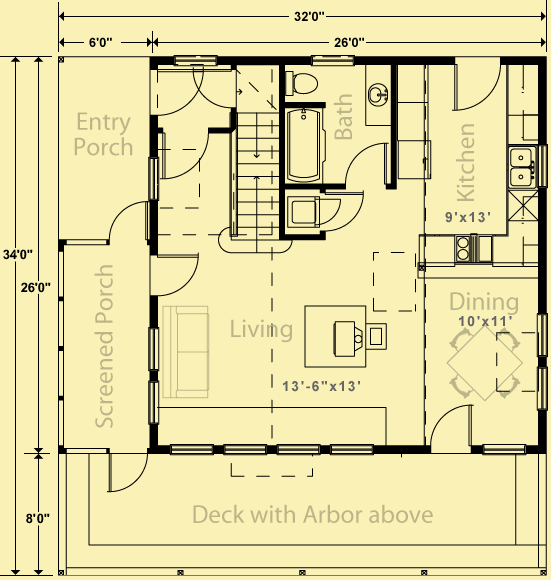dining_table: (446, 324, 526, 401)
door: (451, 55, 501, 113), (159, 127, 209, 184), (147, 254, 201, 295), (341, 142, 390, 186), (103, 449, 150, 493), (431, 405, 473, 454), (108, 200, 150, 247)
large_sink: (283, 68, 320, 100)
large_sofa: (158, 304, 209, 400)
small_sink: (363, 64, 394, 127)
stairs: (222, 112, 290, 256)
tub: (284, 106, 327, 186)
twin_sink: (507, 147, 535, 192)
windows: (168, 442, 375, 460), (531, 311, 551, 412), (144, 327, 162, 427), (307, 52, 355, 71), (479, 440, 528, 458)
